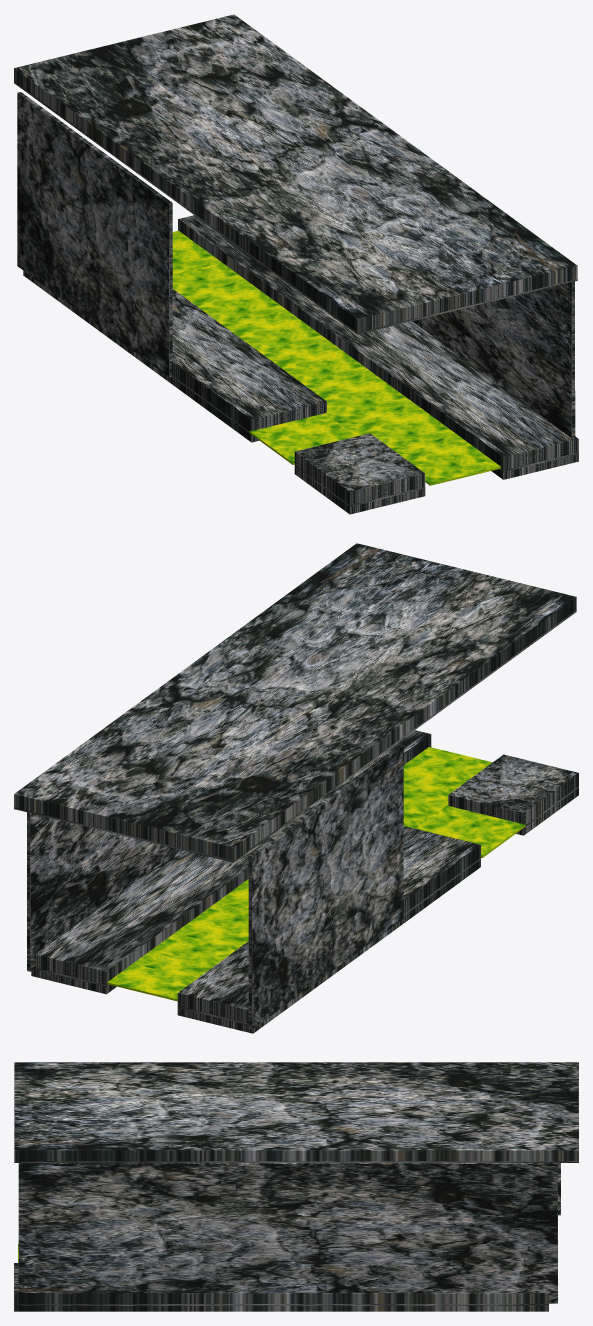
File: level left corner.fbx
3 views of the same model, one above another, from view 1: azimuth 30°, elevation 25°; view 2: azimuth 150°, elevation 25°; view 3: azimuth 270°, elevation 25° (orthographic). The views are drawn at different scales.
Visible parts, largest first — view 1: ceiling, wall 1, acid, path 3, wall 3, path 2, path 1; view 2: ceiling, wall 1, path 3, acid, wall 3, path 2, path 1; view 3: wall 3, ceiling, path 3.
Part boxes in pixels (<box>): ceiling: <box>14,14,577,334</box>; wall 1: <box>17,92,172,377</box>; acid: <box>172,230,500,485</box>; path 3: <box>178,215,578,479</box>; wall 3: <box>412,281,575,437</box>; path 2: <box>23,271,326,442</box>; path 1: <box>294,433,425,514</box>; ceiling: <box>14,543,576,862</box>; wall 1: <box>248,744,403,1029</box>; path 3: <box>31,730,431,994</box>; acid: <box>107,747,525,1001</box>; wall 3: <box>27,812,178,971</box>; path 2: <box>177,826,480,1033</box>; path 1: <box>448,754,578,835</box>; wall 3: <box>18,1163,557,1303</box>; ceiling: <box>14,1062,578,1162</box>; path 3: <box>14,1263,548,1311</box>.
Bounding box in the file's own units: 3776 × 3087 × 9824.
Materials: 2 (2 with a texture image).
